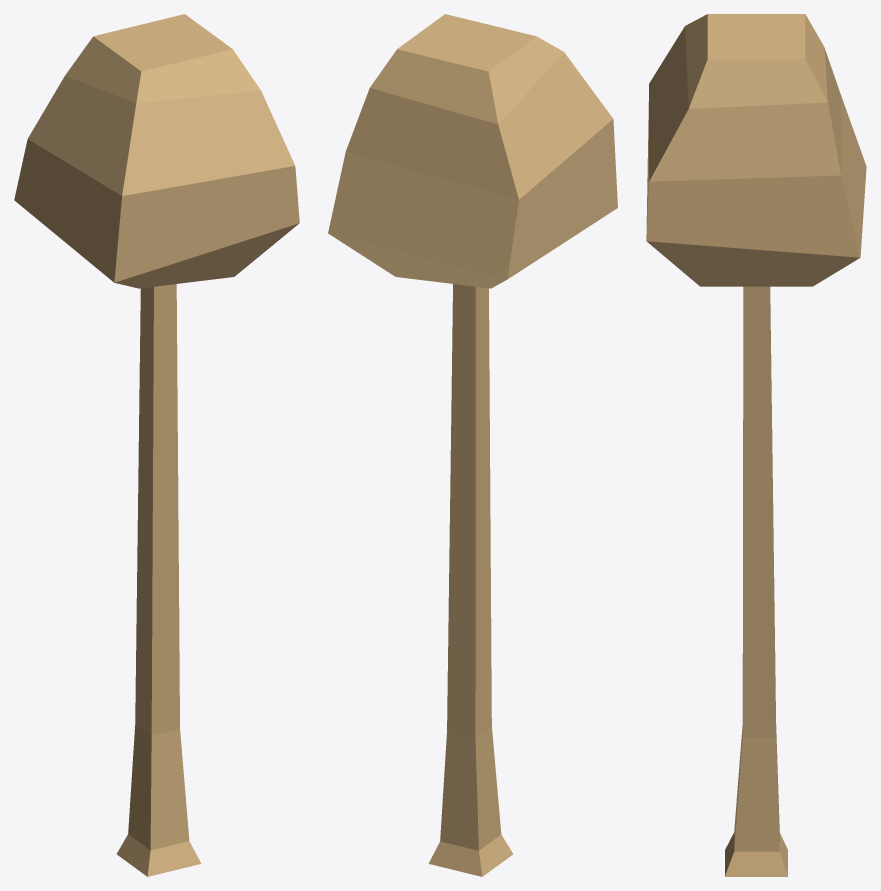
The model's file is Mega_Asset_s_Pack_Cube_055.FBX.
3 views of the same model, side by side, from view 1: azimuth 30°, elevation 25°; view 2: azimuth 150°, elevation 25°; view 3: azimuth 270°, elevation 25° (orthographic).
Visible parts, largest first — view 1: Mega_Asset_s_Pack_Cube_055; view 2: Mega_Asset_s_Pack_Cube_055; view 3: Mega_Asset_s_Pack_Cube_055.
Part boxes in pixels (x1,y1,x2,y2): Mega_Asset_s_Pack_Cube_055: [14, 14, 299, 876]; Mega_Asset_s_Pack_Cube_055: [328, 14, 617, 876]; Mega_Asset_s_Pack_Cube_055: [646, 14, 866, 876].
Size of what is drawn, in the model's own units: 451 by 451 by 1871.
